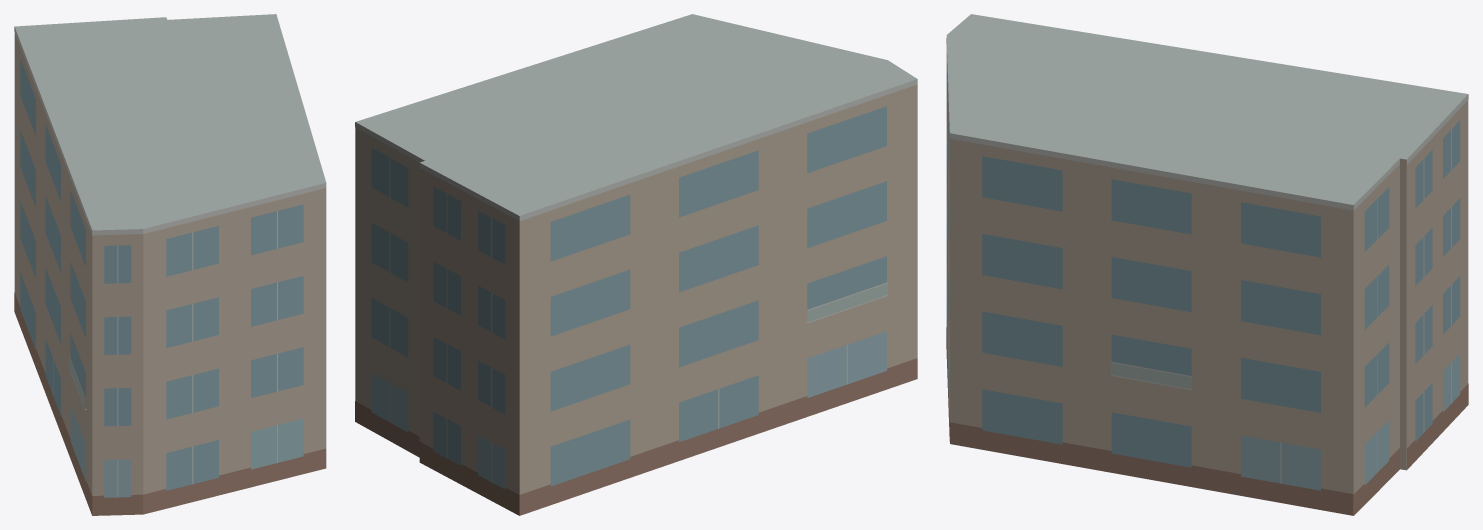
File: survey-upis-32782078.glb
The picture shows the model from 3 angles, left to right: view 1: azimuth 30°, elevation 25°; view 2: azimuth 150°, elevation 25°; view 3: azimuth 270°, elevation 25°; orthographic projection. The views are drawn at different scales.
Visible parts, largest first — view 1: survey-upis-32782078.tmp; view 2: survey-upis-32782078.tmp; view 3: survey-upis-32782078.tmp.
Part boxes in pixels (box(x1,y1,x2,y2)): survey-upis-32782078.tmp: box(14, 14, 326, 515); survey-upis-32782078.tmp: box(355, 14, 917, 515); survey-upis-32782078.tmp: box(946, 14, 1468, 515).
Size of the model in its own units: 18.21 by 13.8 by 21.02.
